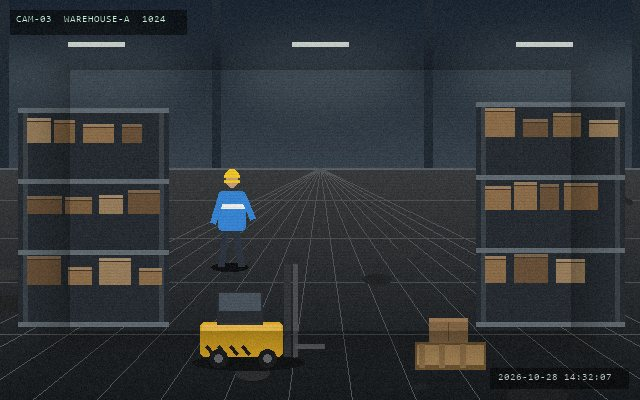forklift: (196, 262, 326, 370)
pallet: (413, 340, 487, 371)
person: (209, 167, 254, 270)
shelf: (476, 102, 624, 322), (18, 108, 168, 322)
